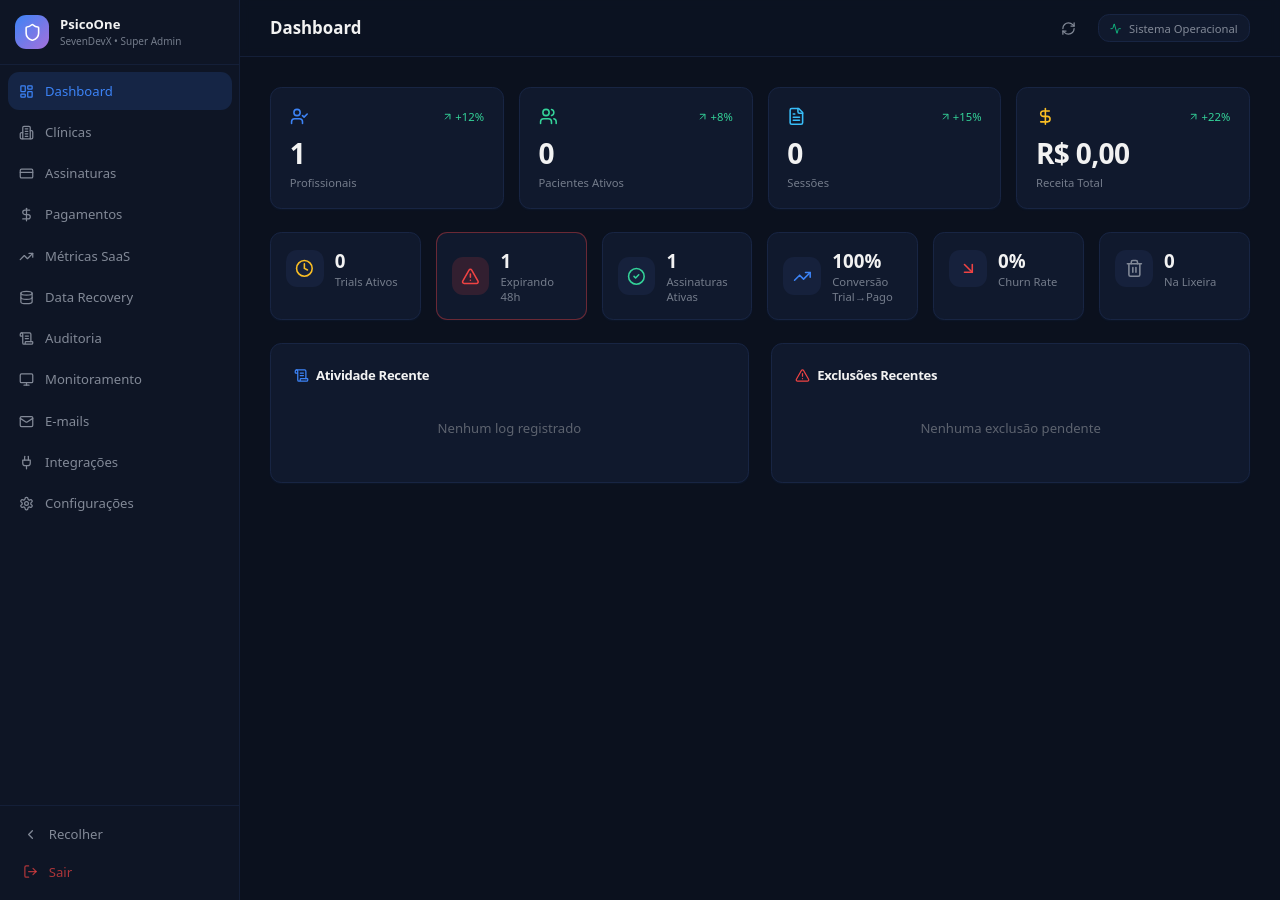
shows account email below the matching subscription name
Click the button "Assinaturas".
click(120, 174)  # box [8, 155, 232, 192]
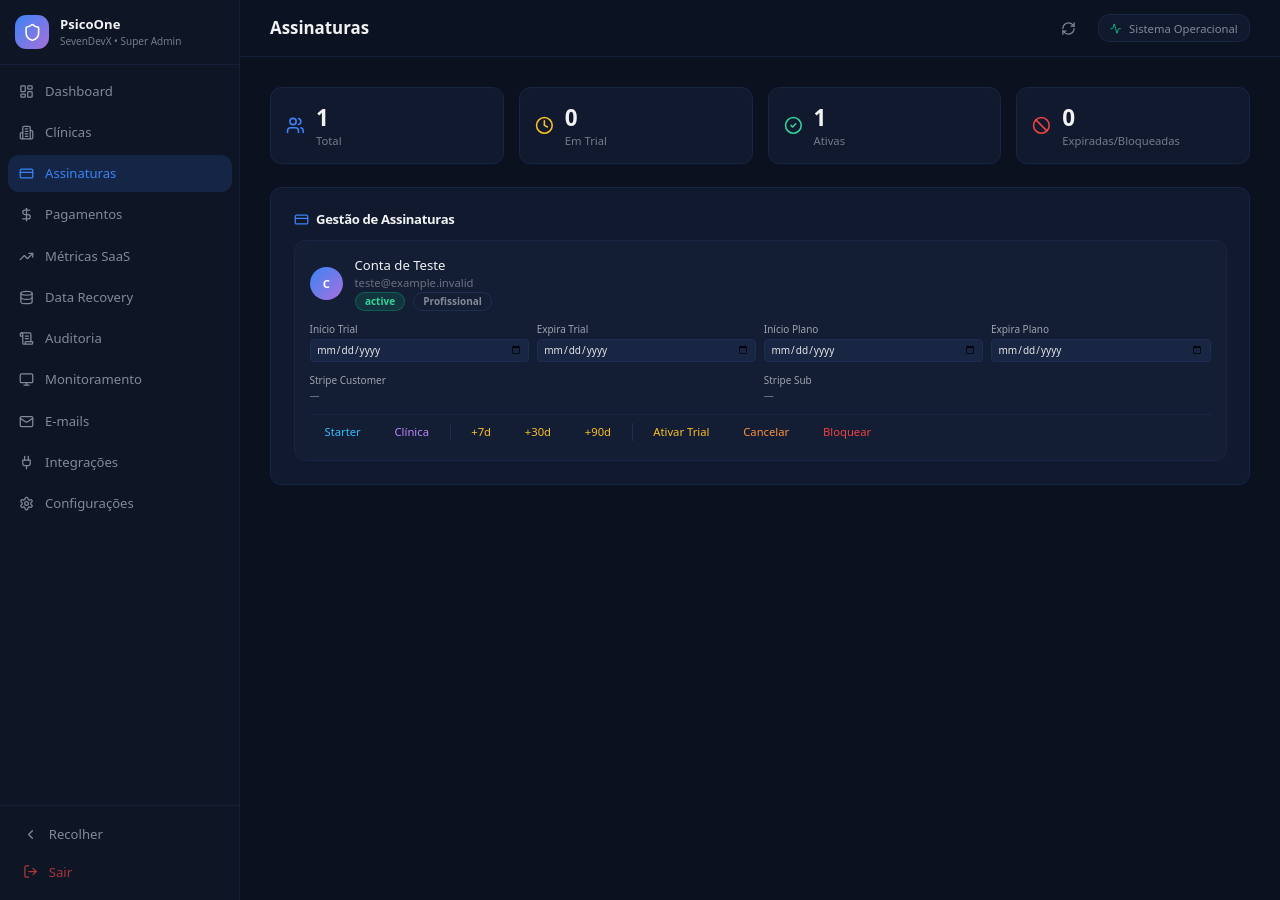
Check: the text "teste@example.invalid" is shown, box [354, 275, 492, 290]
Check: the text "Conta de Teste" is shown, box [354, 256, 445, 274]
